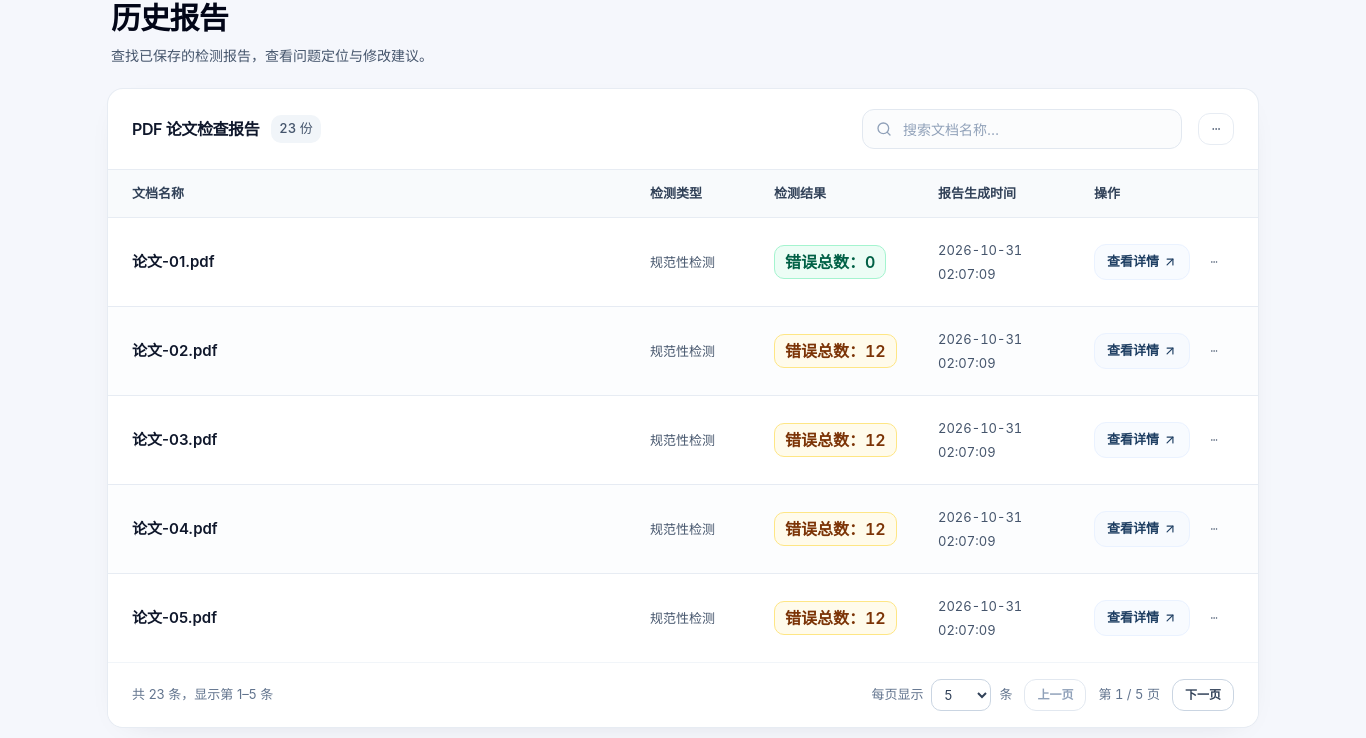
paginates actual rows and resets to the first page after the page size changes
This screenshot has width=1366, height=738.
Expected: the link "论文-01.pdf" is shown, [132,252,215,271]
Select "10" in the dropdown named "每页显示条数" at (961, 695), box [931,679,991,711]
(page scrolled)
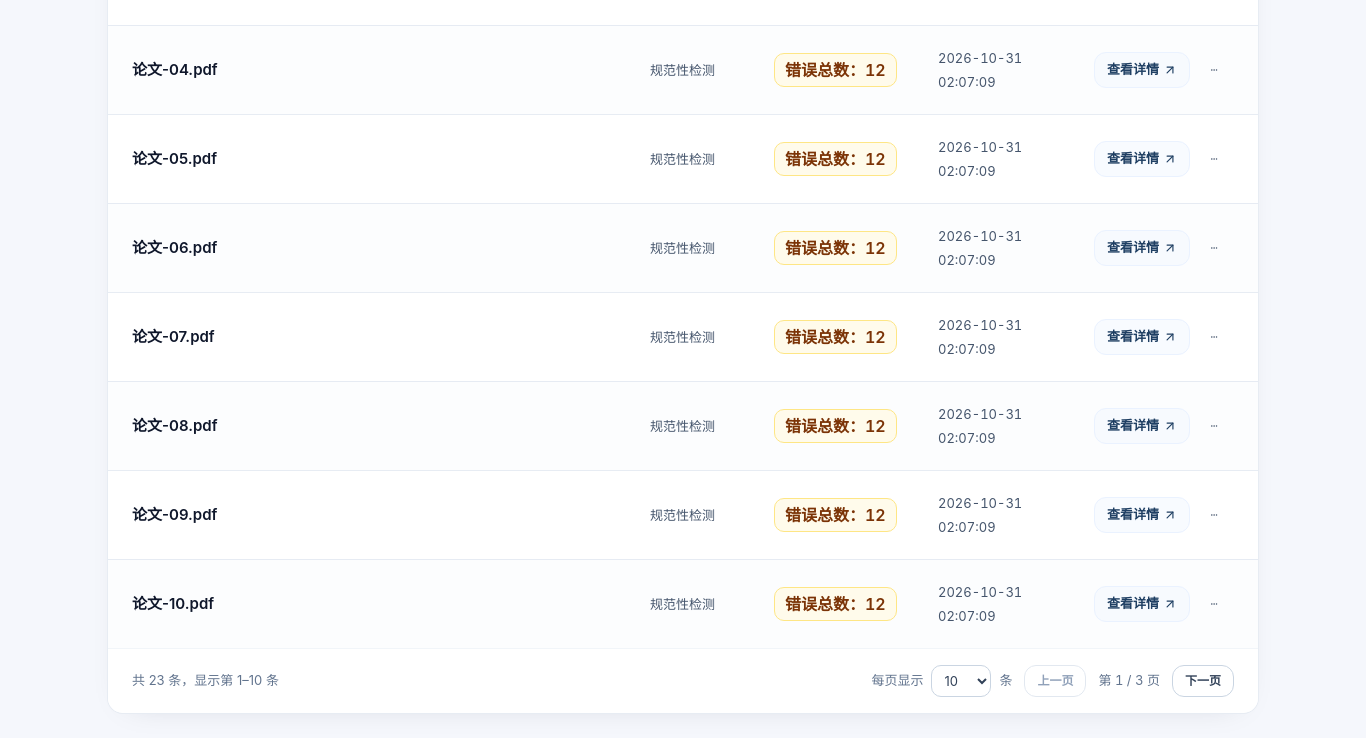
Expected: the button "上一页" is disabled, [1024,665,1086,697]
Now the text "第 1 / 3 页" is shown, box [1098,671,1160,690]
Click the button "下一页" at (1203, 681), box [1172,665,1234,697]
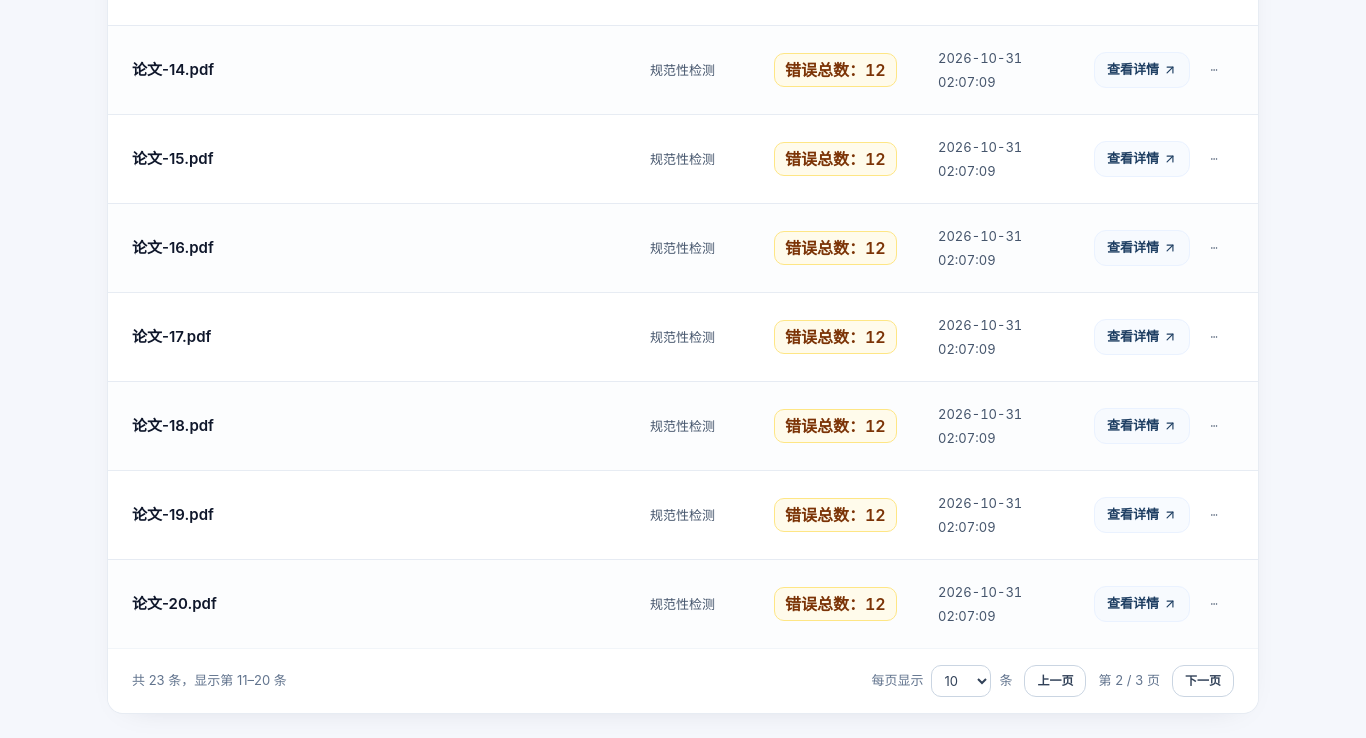
Select "20" in the dropdown named "每页显示条数" at (961, 681), box [931,665,991,697]
(page scrolled)
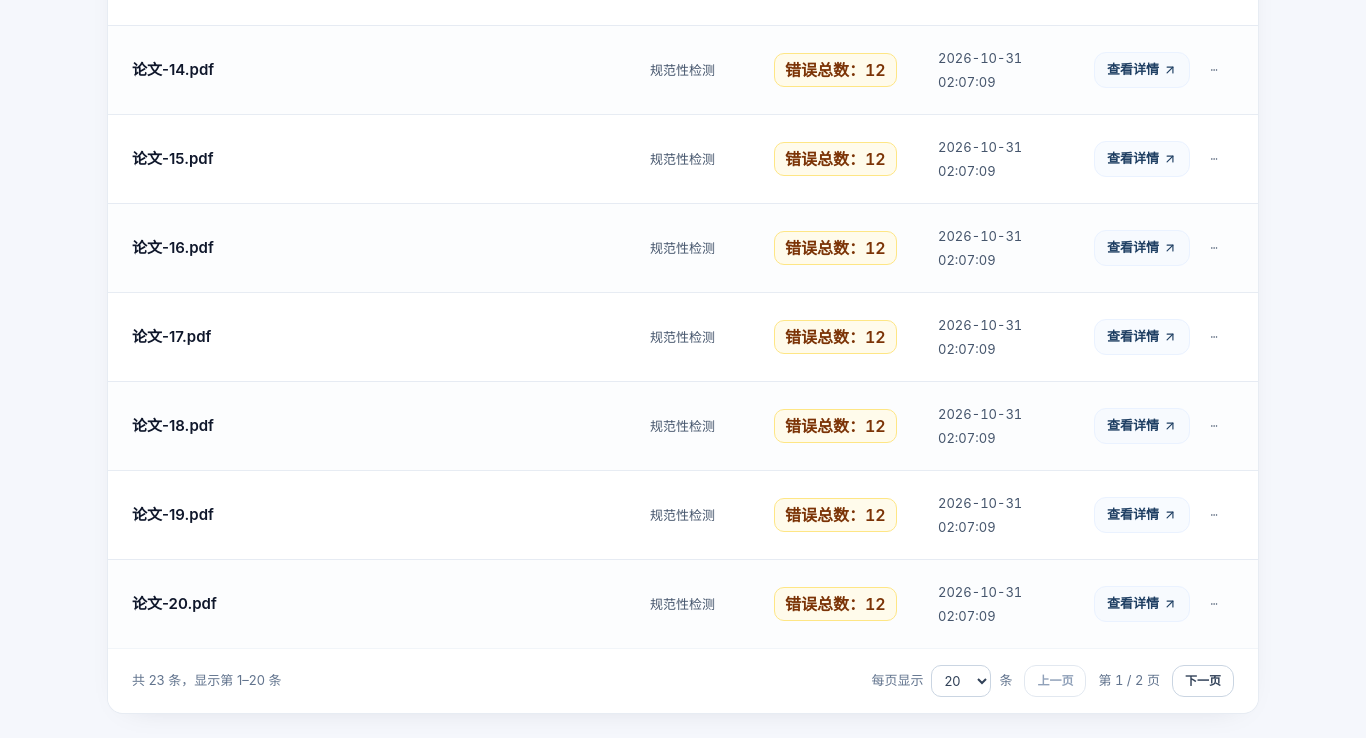
Now the text "第 1 / 2 页" is shown, box [1098,671,1160,690]
Click the button "下一页" at (1203, 681), box [1172,665,1234,697]
(page scrolled)
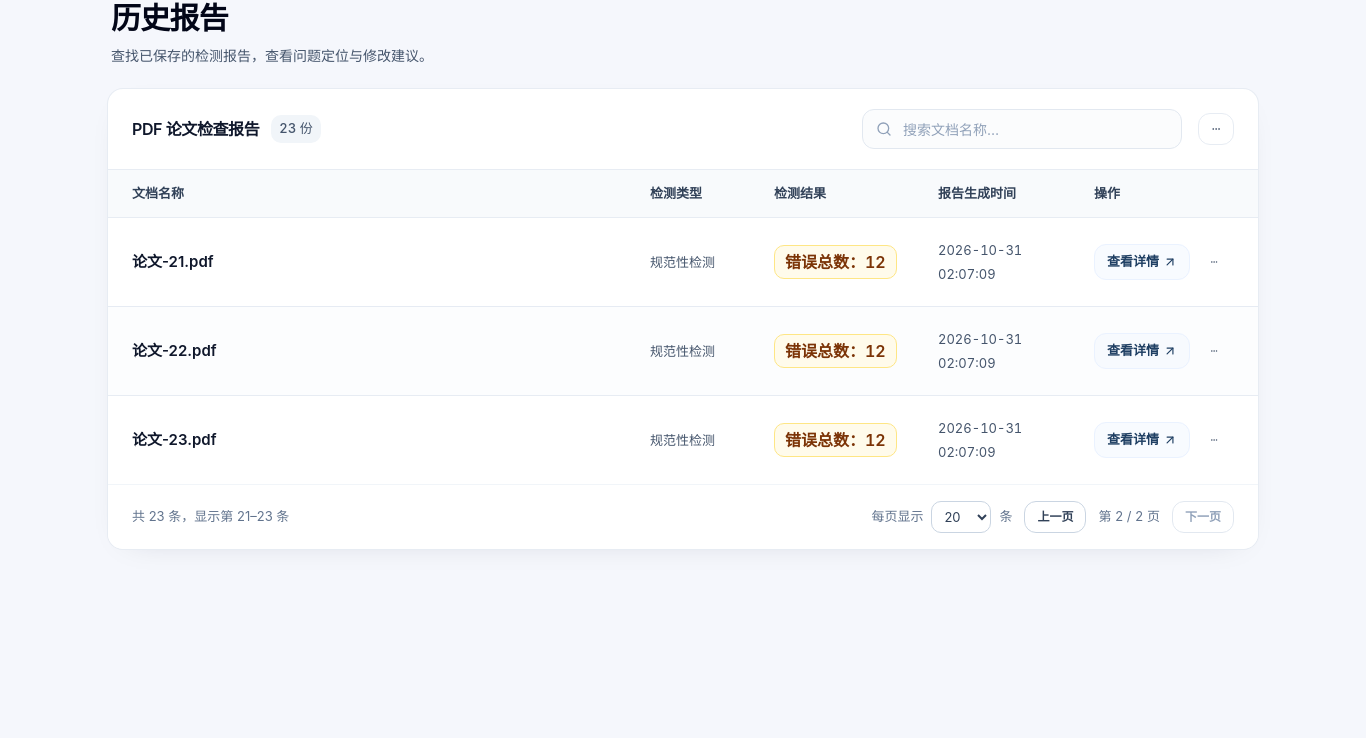
Now the button "下一页" is disabled, box [1172,501,1234,533]
Select "50" in the dropdown named "每页显示条数" at (961, 517), box [931,501,991,533]
(page scrolled)
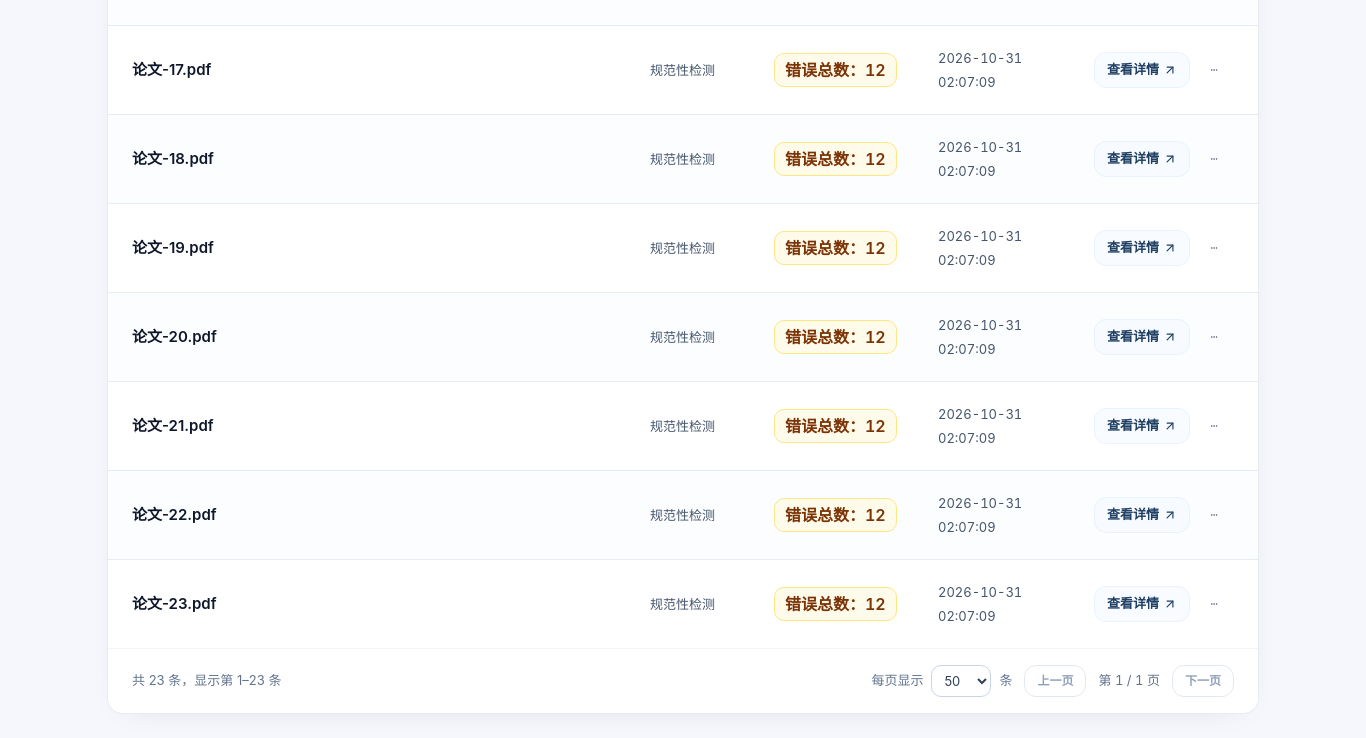
Now the text "第 1 / 1 页" is shown, box [1098,671,1160,690]
